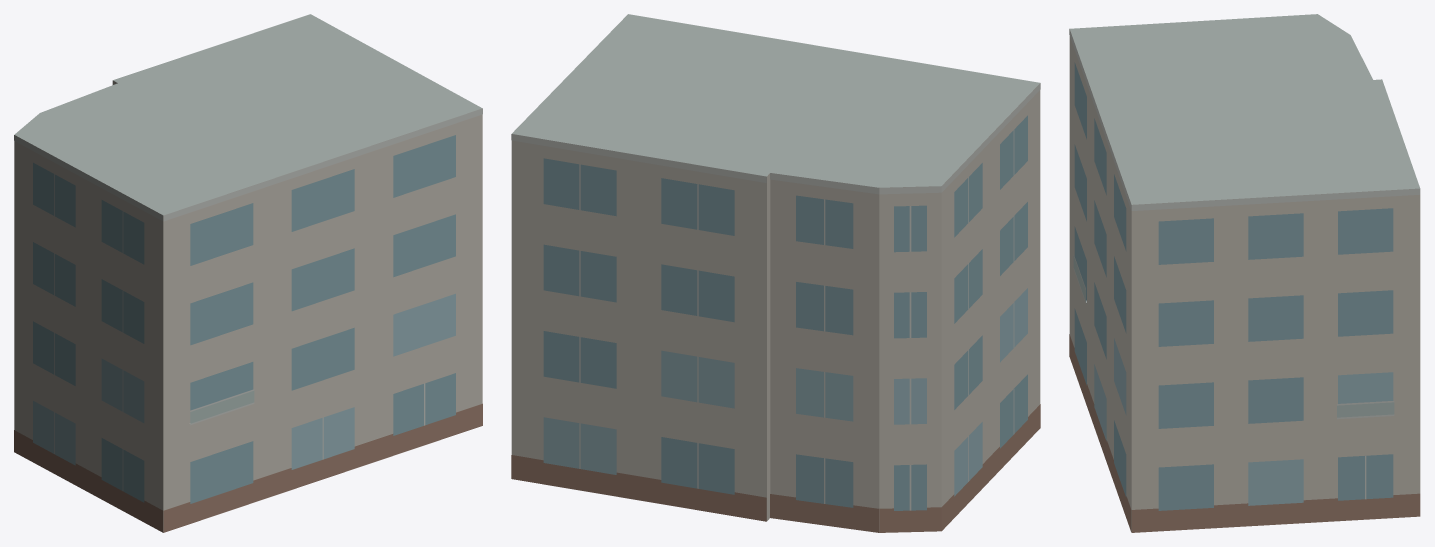
Rendered from survey-upis-32960384.glb.
3 views of the same model, side by side, from view 1: azimuth 30°, elevation 25°; view 2: azimuth 150°, elevation 25°; view 3: azimuth 270°, elevation 25° (orthographic). The views are drawn at different scales.
Visible parts, largest first — view 1: survey-upis-32960384.tmp; view 2: survey-upis-32960384.tmp; view 3: survey-upis-32960384.tmp.
Part boxes in pixels (x1=…): survey-upis-32960384.tmp: x1=14, y1=14, x2=482, y2=532; survey-upis-32960384.tmp: x1=511, y1=14, x2=1040, y2=532; survey-upis-32960384.tmp: x1=1069, y1=14, x2=1420, y2=532.
Size of the model in its own units: 15.86 by 12.7 by 12.32.
